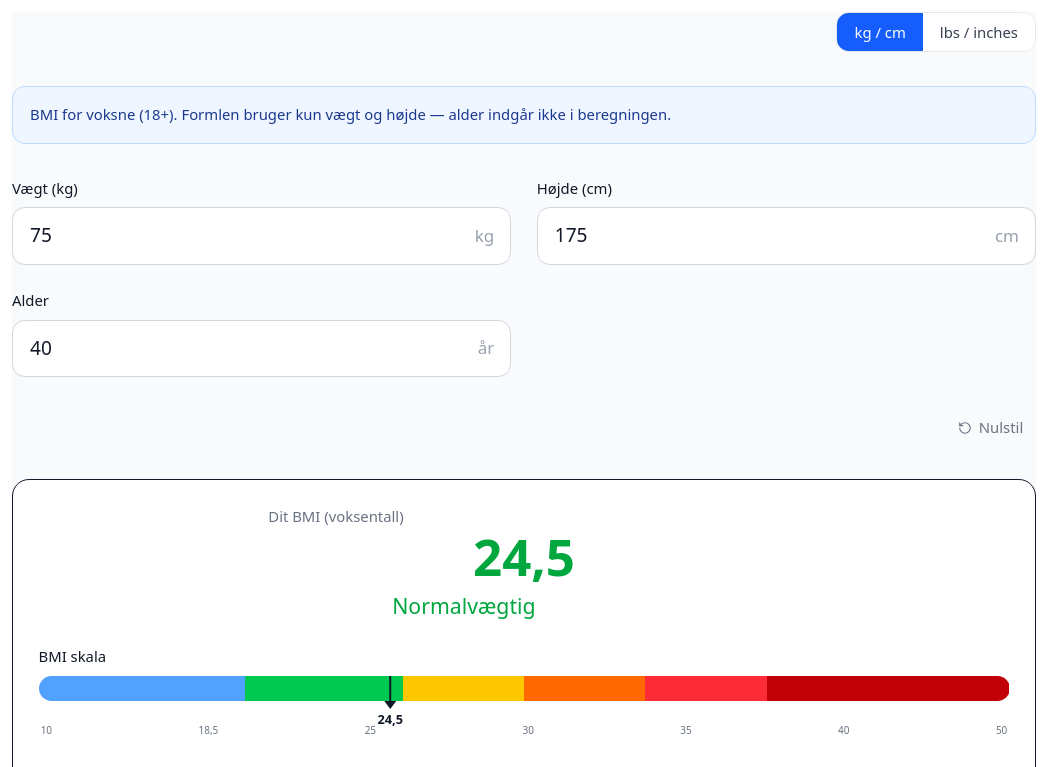
Test: BMIBeregner › fjerner resultat og deling ved imperial vægt over maksimum
This screenshot has width=1048, height=767.
Click the button "lbs / inches" at (979, 32), box left=923, top=13, right=1035, bottom=51
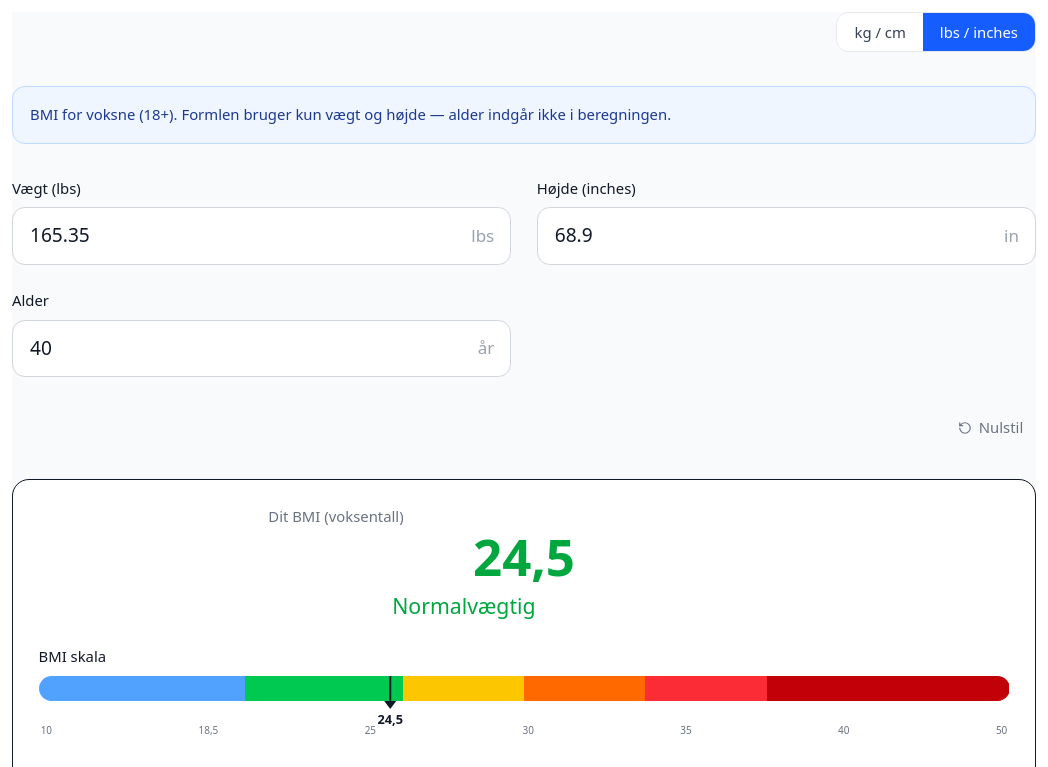
Replace the text in the number field labelled "Vægt (lbs)" with "661.39" at (262, 236), box left=12, top=207, right=511, bottom=265
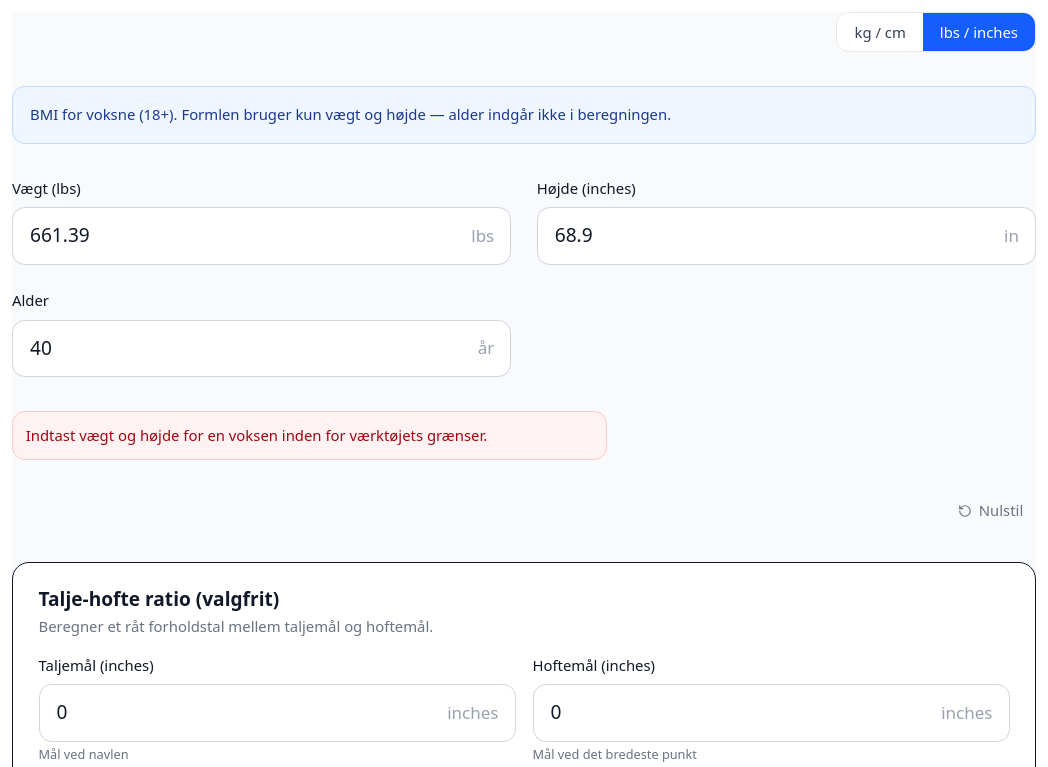
Result: the message shows "Indtast vægt og højde for en voksen" at left=26, top=425, right=487, bottom=445
